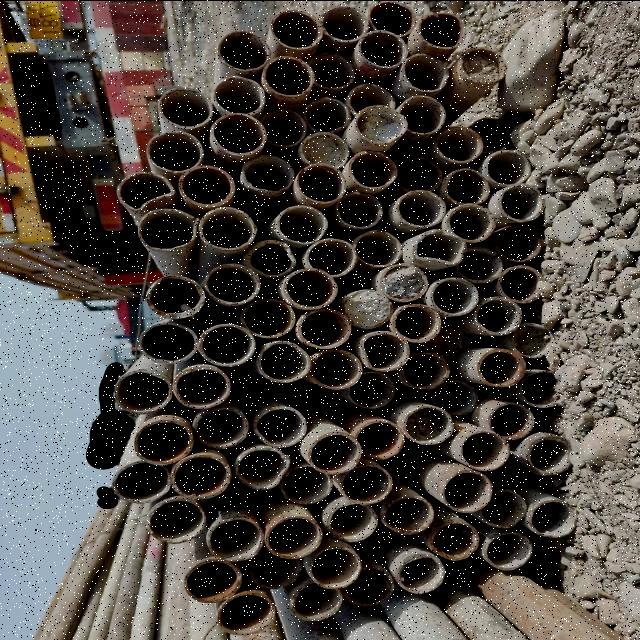pipe: (170, 453, 232, 499), (145, 497, 207, 542), (133, 418, 193, 464), (136, 207, 200, 250), (144, 274, 204, 318), (113, 368, 173, 412), (112, 458, 172, 502), (197, 205, 257, 249), (196, 322, 256, 366), (172, 364, 232, 408), (206, 515, 262, 561), (184, 558, 242, 602), (264, 514, 322, 558), (137, 320, 197, 362), (217, 590, 274, 634), (234, 445, 290, 489), (178, 163, 235, 206), (146, 129, 203, 171), (256, 338, 310, 382), (157, 86, 213, 128), (204, 262, 260, 304), (192, 406, 248, 448), (211, 112, 267, 154), (282, 266, 338, 308), (116, 170, 176, 209), (252, 404, 306, 447), (308, 545, 362, 588), (441, 468, 493, 512), (297, 306, 351, 348), (308, 430, 362, 472), (246, 548, 302, 588), (217, 29, 271, 70), (262, 54, 314, 96), (342, 564, 394, 606), (211, 74, 265, 114), (242, 152, 296, 192), (242, 297, 296, 337), (339, 463, 393, 503), (290, 579, 342, 620), (326, 501, 378, 542), (309, 348, 362, 388), (360, 329, 410, 371), (270, 8, 322, 48), (276, 203, 328, 243), (280, 463, 332, 503), (304, 236, 356, 276), (354, 103, 406, 143), (341, 288, 393, 328), (389, 302, 441, 342), (382, 494, 434, 534), (460, 429, 510, 470), (430, 519, 480, 560), (257, 106, 307, 146), (296, 162, 346, 202), (358, 28, 408, 68), (354, 419, 404, 459), (396, 187, 446, 227), (429, 275, 479, 315), (402, 404, 452, 444), (445, 202, 495, 242), (476, 347, 526, 387), (482, 530, 532, 570), (412, 227, 467, 263), (244, 238, 296, 276), (298, 130, 350, 168), (377, 262, 429, 300), (399, 350, 451, 388), (526, 432, 572, 474), (401, 51, 449, 91), (398, 94, 446, 134), (396, 552, 444, 592), (474, 294, 522, 334), (478, 487, 526, 527), (318, 3, 368, 41), (306, 50, 356, 88), (346, 370, 396, 408), (527, 498, 577, 536), (346, 81, 396, 118), (370, 442, 420, 479), (498, 181, 544, 221), (302, 95, 350, 133), (348, 149, 396, 187), (334, 189, 382, 227), (354, 228, 402, 266), (458, 45, 506, 83), (455, 244, 503, 282), (487, 400, 535, 438), (444, 166, 490, 204), (494, 222, 540, 260), (497, 264, 543, 302), (368, 0, 416, 36), (394, 155, 442, 191), (434, 125, 482, 161), (418, 10, 463, 48), (418, 320, 464, 356), (432, 378, 478, 414), (484, 148, 530, 184), (510, 320, 552, 358), (520, 368, 560, 406), (469, 116, 511, 152)
